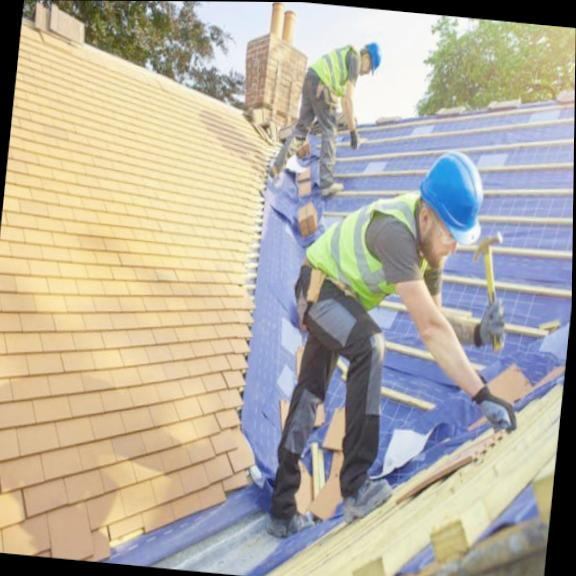safety_vest: (295, 183, 419, 321), (310, 40, 357, 96)
